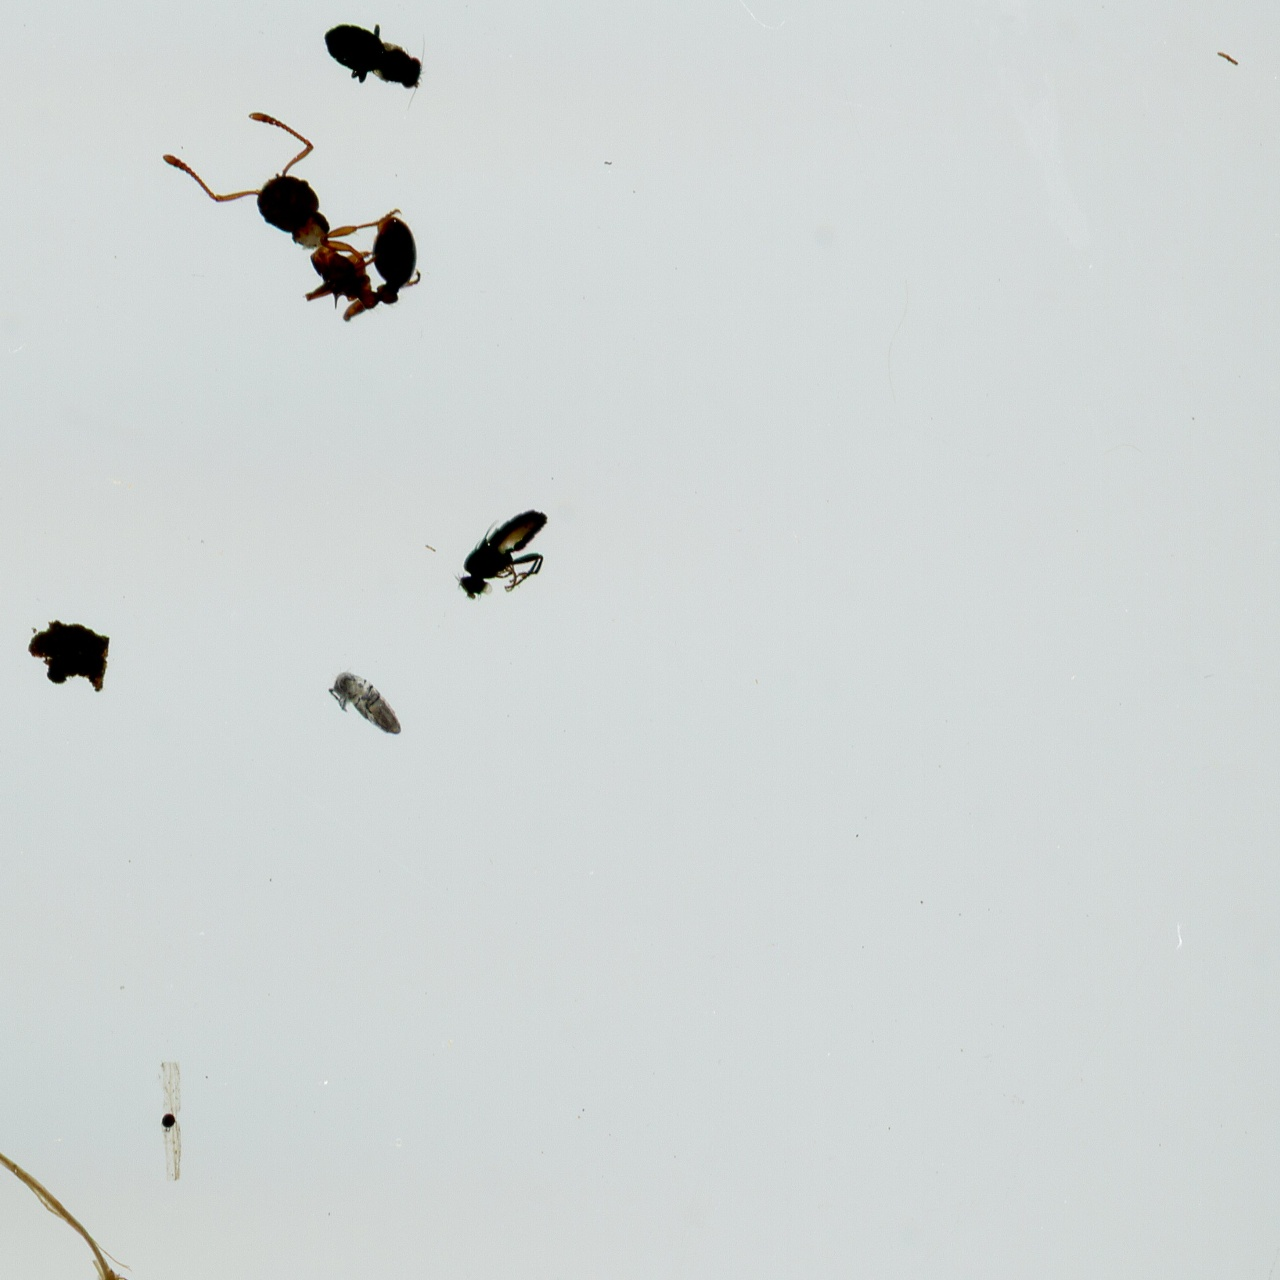arthropod: (160, 104, 426, 325), (435, 482, 579, 634), (310, 647, 422, 760), (319, 14, 438, 120)
